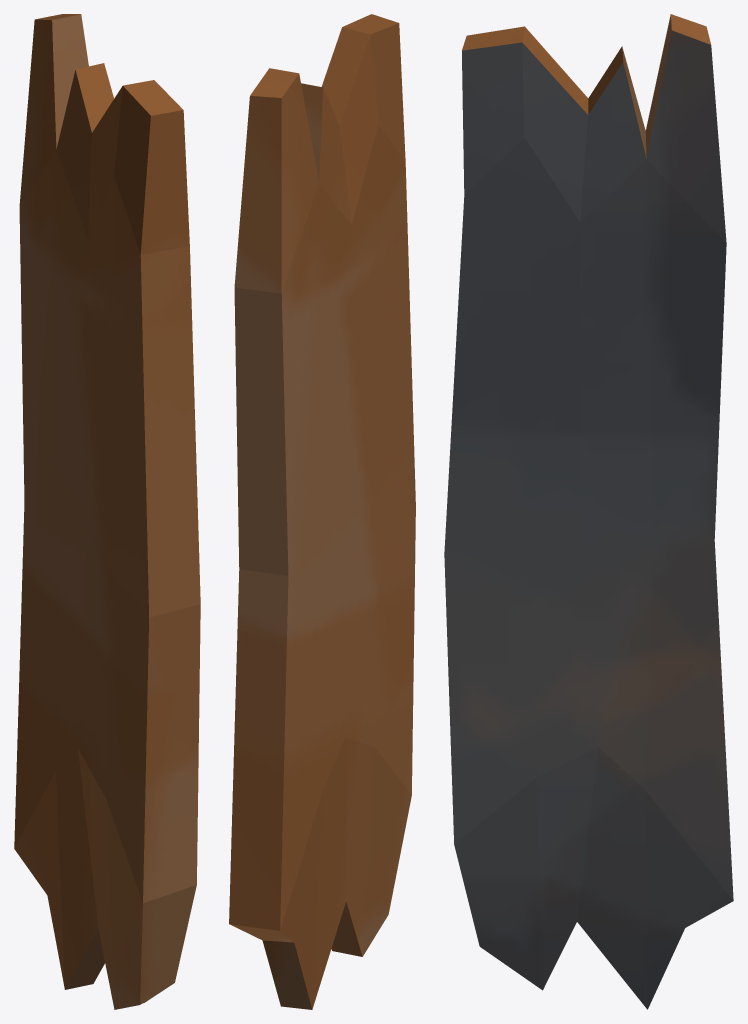
File: DebrisCaisse1.FBX
3 views of the same model, side by side, from view 1: azimuth 30°, elevation 25°; view 2: azimuth 150°, elevation 25°; view 3: azimuth 270°, elevation 25° (orthographic). The views are drawn at different scales.
Parts seen in each view (by area): view 1: Debris1; view 2: Debris1; view 3: Debris1.
Part boxes in pixels (x1,y1,x2,y2): Debris1: [14, 14, 200, 1009]; Debris1: [229, 14, 415, 1009]; Debris1: [444, 14, 733, 1009].
Size of the model in its own units: 0.155 by 2.73 by 0.7303.
